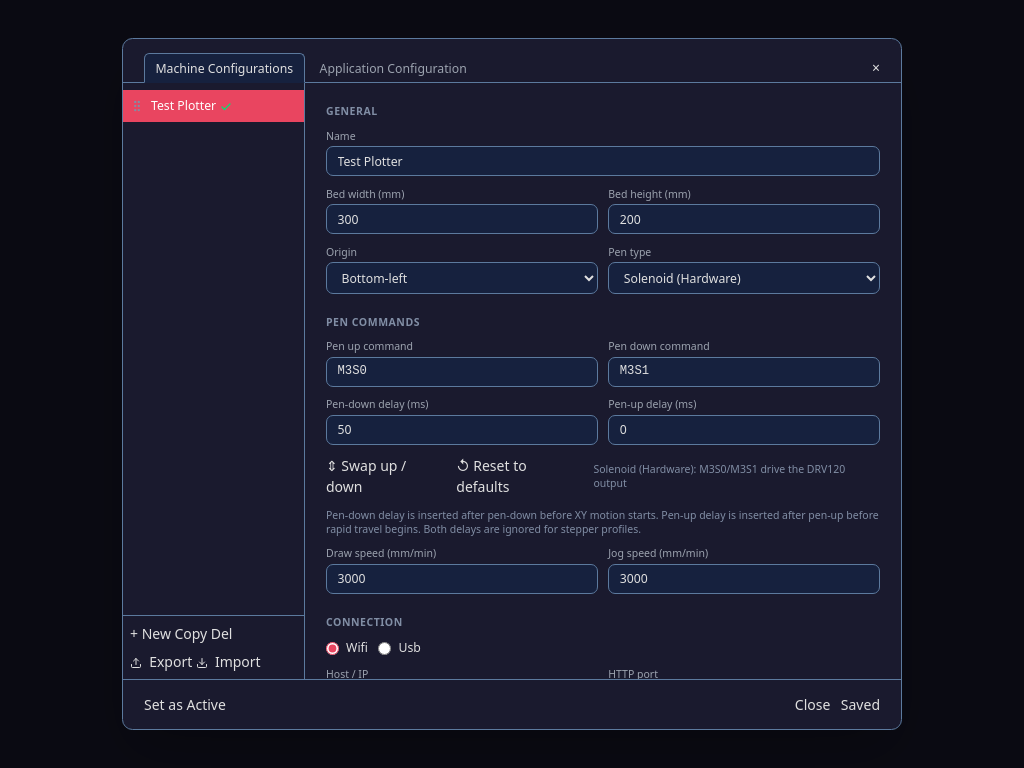
MachineConfigDialog › shows vinyl cutting app settings when the experimental toggle is enabled
What coordinates should you click on to do the following:
click the tab "Application Configuration"
I would click on:
 (393, 68)
Its box is [308, 53, 478, 83].
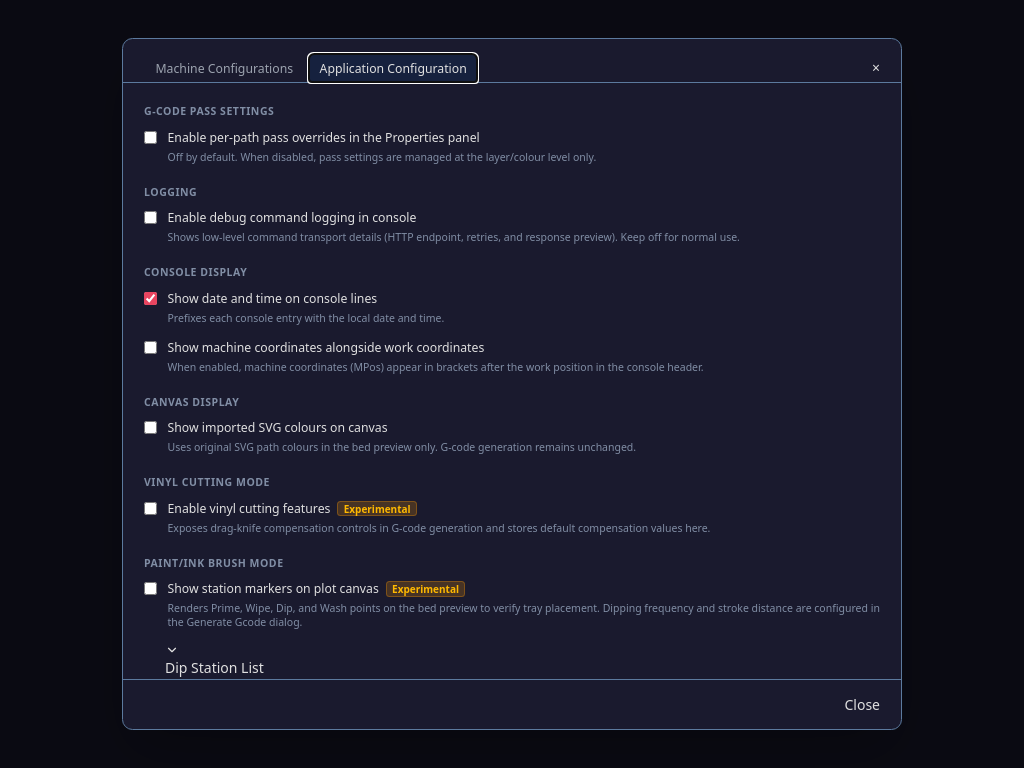
Expected: the checkbox labelled "Enable vinyl cutting features" is not checked
What coordinates should you click on to do the following:
click the checkbox labelled "Enable vinyl cutting features"
I would click on:
 (150, 508)
Its box is [144, 502, 157, 515].
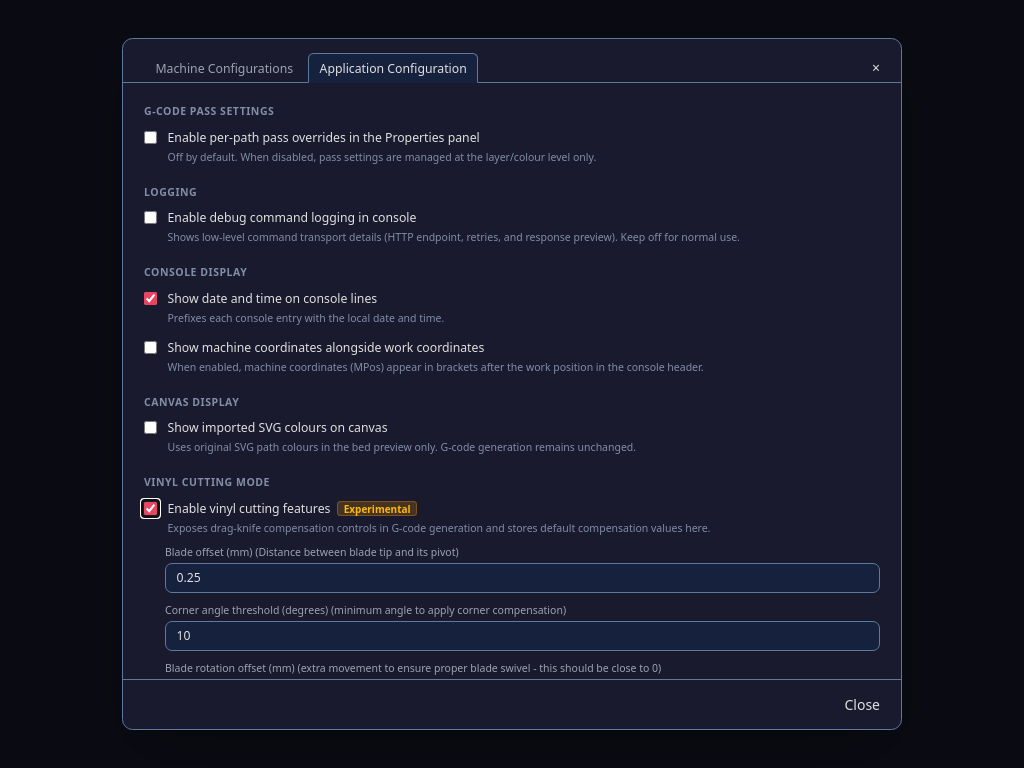
Expected: the text "Blade offset (mm) (Distance between blade tip and its pivot)" is shown, [165, 545, 459, 559]
Expected: the text "Corner angle threshold (degrees) (minimum angle to apply corner compensation)" is shown, [165, 603, 566, 617]
Expected: the text "Blade rotation offset (mm) (extra movement to ensure proper blade swivel - this should be close to 0)" is shown, [165, 661, 661, 675]
